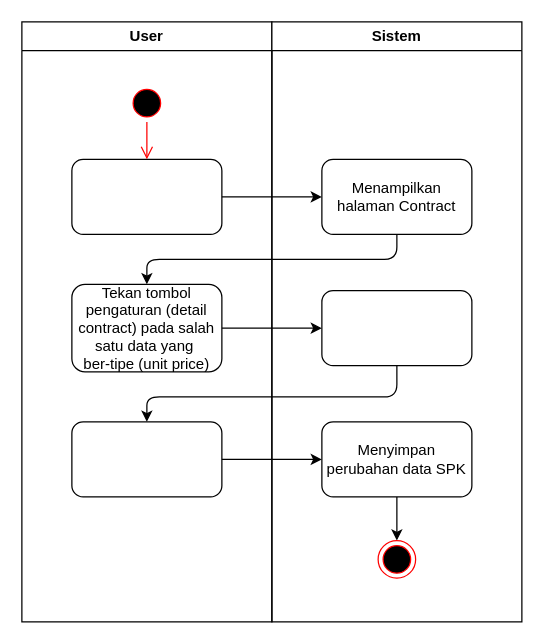
Image size: 544x644. Some labels were removed from this diagram. The centre of each missing label's shape, as x and y in pixels:
Membuka halaman Contract: pixel 146 196
Memilih tombol hapus pada salah satu data SPK: pixel 146 459
Menampilkan detail contract beserta SPK-nya: pixel 396 327
